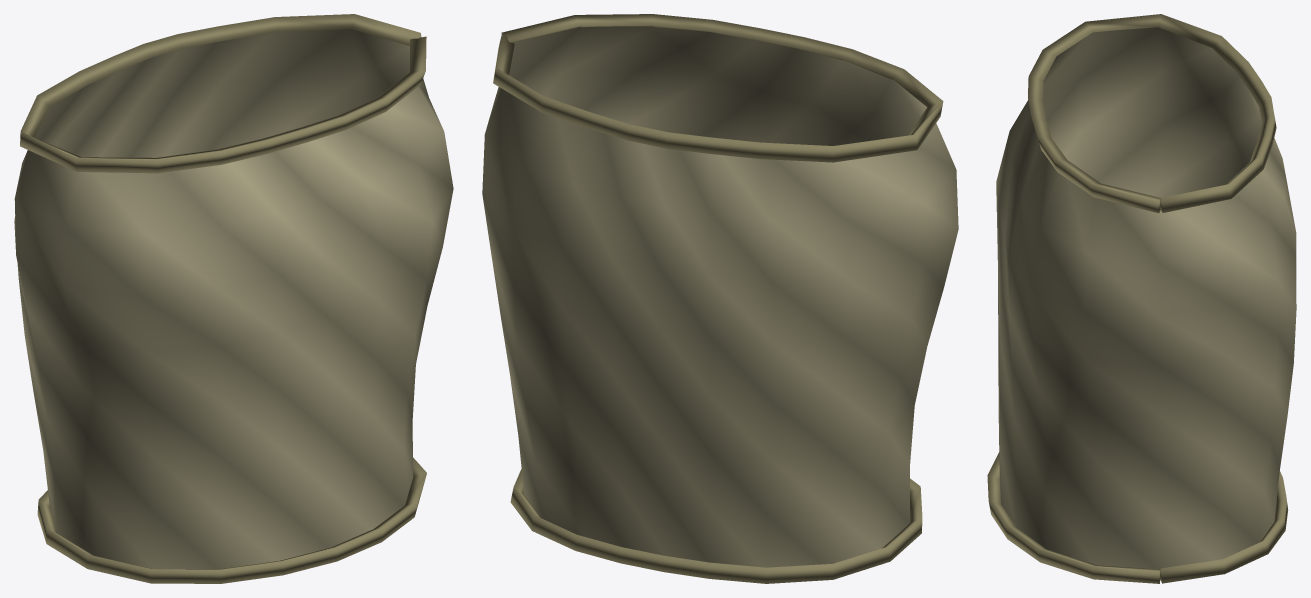
The model's file is tin_armor_chest.glb.
The picture shows the model from 3 angles, left to right: view 1: azimuth 30°, elevation 25°; view 2: azimuth 150°, elevation 25°; view 3: azimuth 270°, elevation 25°; orthographic projection. The views are drawn at different scales.
Parts seen in each view (by area): view 1: tin_armor_chest; view 2: tin_armor_chest; view 3: tin_armor_chest.
Boxes of the visible parts, x1,y1,x2,y2 form: tin_armor_chest: [14, 14, 453, 583]; tin_armor_chest: [482, 14, 958, 583]; tin_armor_chest: [987, 14, 1296, 583].
Size of the model in its own units: 0.3976 by 0.3857 by 0.2721.
